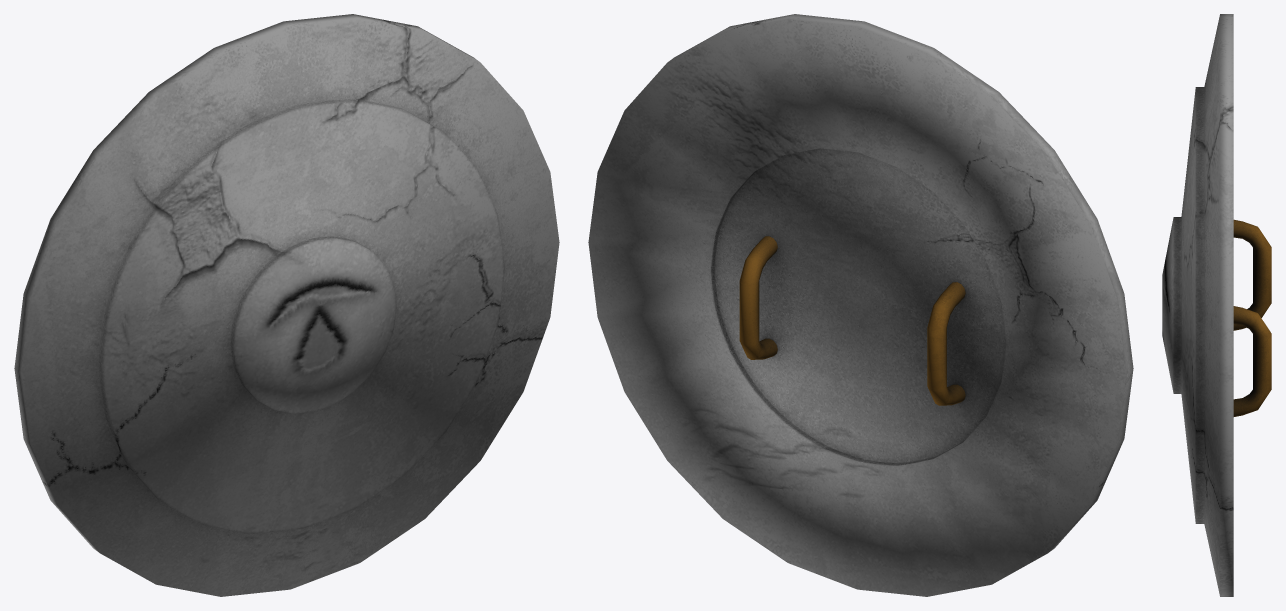
Rendered from Shield_iron.fbx.
3 views of the same model, side by side, from view 1: azimuth 30°, elevation 25°; view 2: azimuth 150°, elevation 25°; view 3: azimuth 270°, elevation 25° (orthographic). The views are drawn at different scales.
Parts seen in each view (by area): view 1: Shield (Iron); view 2: Shield (Iron); view 3: Shield (Iron).
Part boxes in pixels (bbox=[...]): Shield (Iron): bbox=[14, 14, 559, 596]; Shield (Iron): bbox=[588, 14, 1133, 596]; Shield (Iron): bbox=[1162, 14, 1271, 596].
Size of the model in its own units: 300 by 300 by 55.96.
